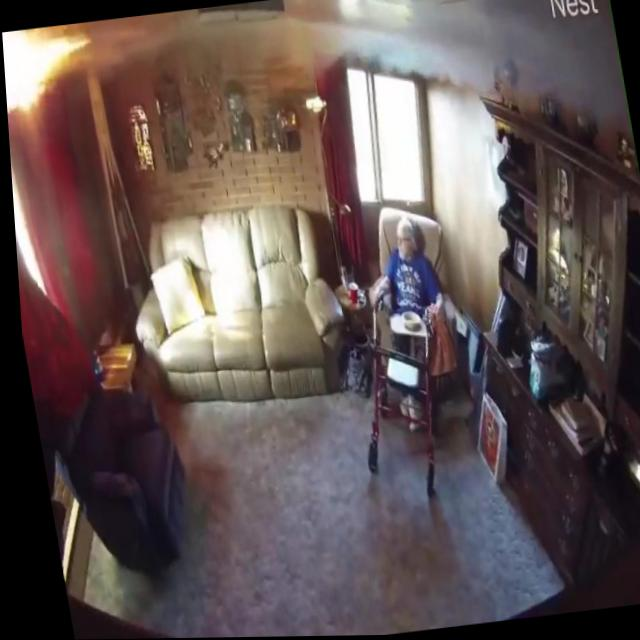fire: (1, 24, 102, 127)
